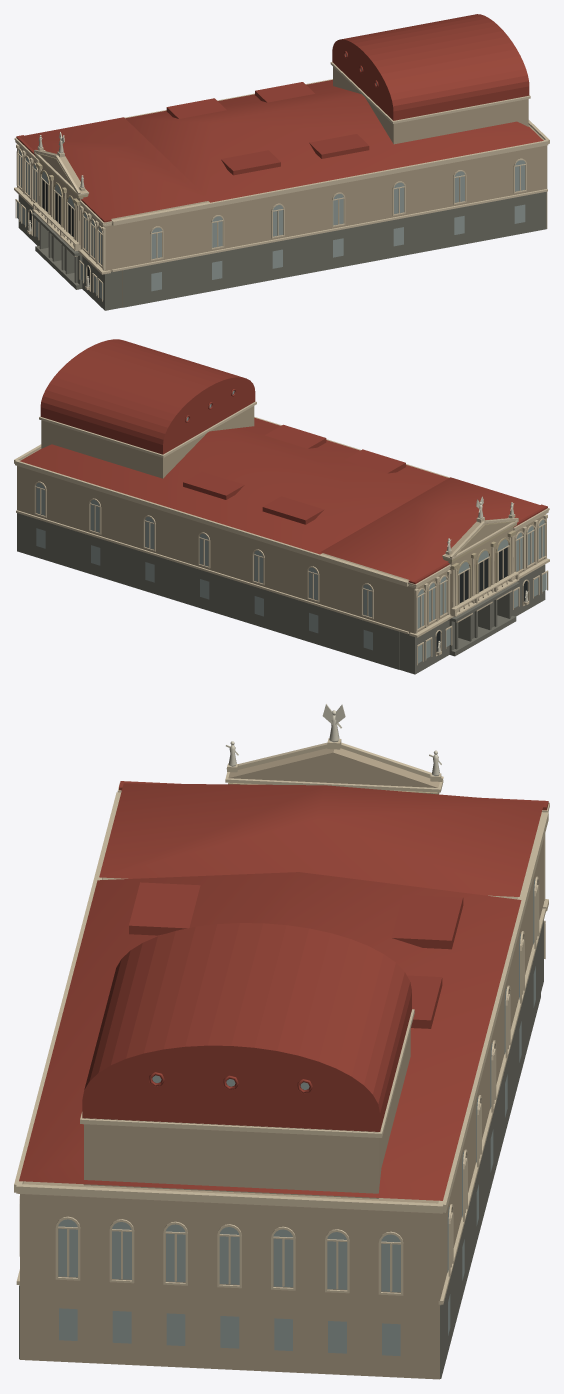
File: teatro-nacional-de-costa-rica-far.glb
3 views of the same model, one above another, from view 1: azimuth 30°, elevation 25°; view 2: azimuth 150°, elevation 25°; view 3: azimuth 270°, elevation 25° (orthographic). The views are drawn at different scales.
Visible parts, largest first — view 1: teatro-nacional-de-costa-rica-0-roof, teatro-nacional-de-costa-rica-0-stone, teatro-nacional-de-costa-rica-0-rustication, teatro-nacional-de-costa-rica-0-trim, teatro-nacional-de-costa-rica-0-glass, teatro-nacional-de-costa-rica-0-light, teatro-nacional-de-costa-rica-0-iron; view 2: teatro-nacional-de-costa-rica-0-roof, teatro-nacional-de-costa-rica-0-stone, teatro-nacional-de-costa-rica-0-rustication, teatro-nacional-de-costa-rica-0-trim, teatro-nacional-de-costa-rica-0-glass, teatro-nacional-de-costa-rica-0-light, teatro-nacional-de-costa-rica-0-iron; view 3: teatro-nacional-de-costa-rica-0-roof, teatro-nacional-de-costa-rica-0-stone, teatro-nacional-de-costa-rica-0-trim, teatro-nacional-de-costa-rica-0-glass, teatro-nacional-de-costa-rica-0-rustication, teatro-nacional-de-costa-rica-0-sculpture.
Boxes of the visible parts, x1,y1,x2,y2 form: teatro-nacional-de-costa-rica-0-roof: [16, 14, 543, 222]; teatro-nacional-de-costa-rica-0-stone: [19, 67, 547, 307]; teatro-nacional-de-costa-rica-0-rustication: [18, 191, 546, 310]; teatro-nacional-de-costa-rica-0-trim: [14, 62, 549, 301]; teatro-nacional-de-costa-rica-0-glass: [17, 53, 525, 299]; teatro-nacional-de-costa-rica-0-light: [35, 153, 88, 239]; teatro-nacional-de-costa-rica-0-iron: [29, 180, 90, 284]; teatro-nacional-de-costa-rica-0-roof: [20, 339, 547, 584]; teatro-nacional-de-costa-rica-0-stone: [17, 406, 544, 633]; teatro-nacional-de-costa-rica-0-rustication: [17, 513, 545, 674]; teatro-nacional-de-costa-rica-0-trim: [14, 401, 549, 665]; teatro-nacional-de-costa-rica-0-glass: [36, 391, 546, 663]; teatro-nacional-de-costa-rica-0-light: [443, 521, 516, 607]; teatro-nacional-de-costa-rica-0-iron: [436, 547, 527, 651]; teatro-nacional-de-costa-rica-0-roof: [19, 781, 548, 1200]; teatro-nacional-de-costa-rica-0-stone: [20, 748, 543, 1379]; teatro-nacional-de-costa-rica-0-trim: [14, 738, 549, 1304]; teatro-nacional-de-costa-rica-0-glass: [58, 879, 535, 1356]; teatro-nacional-de-costa-rica-0-rustication: [19, 920, 543, 1378]; teatro-nacional-de-costa-rica-0-sculpture: [226, 704, 441, 776].
Bounding box in the file's own units: 74.08 × 26 × 39.58.
